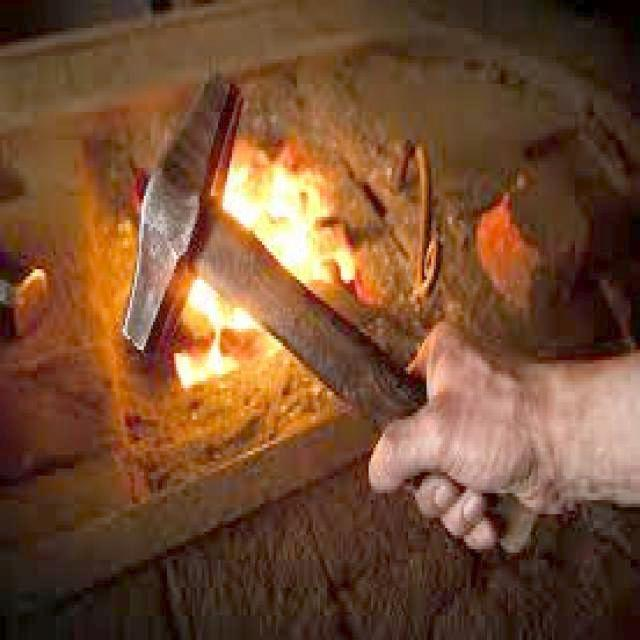hammer: (119, 69, 546, 562)
